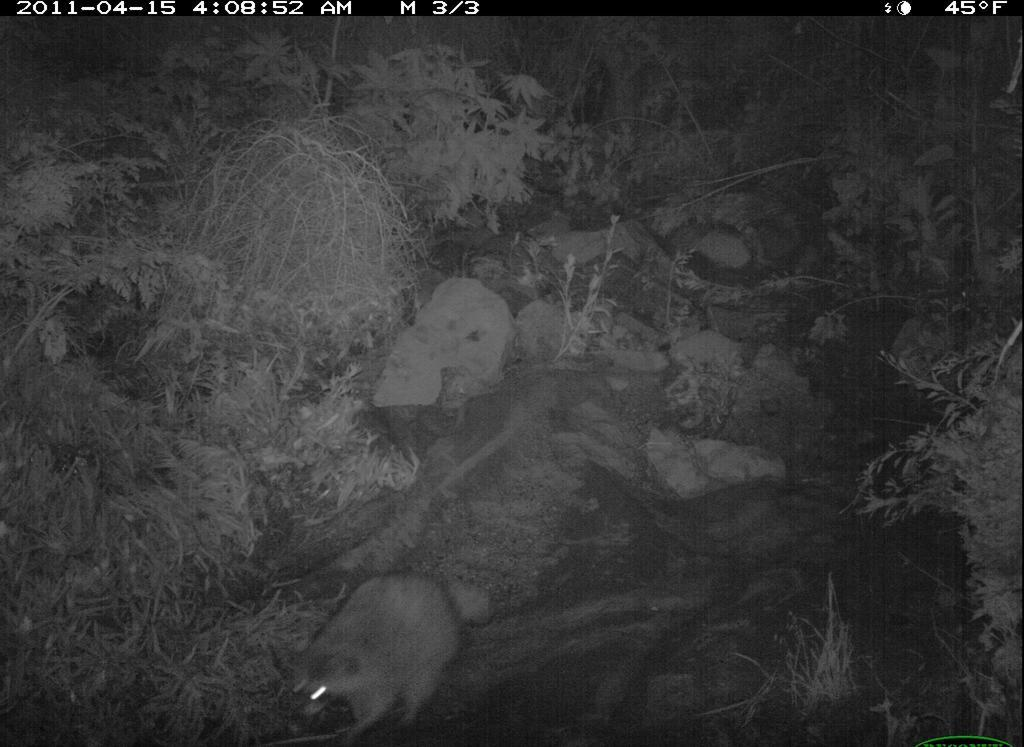raccoon: (257, 562, 496, 745)
